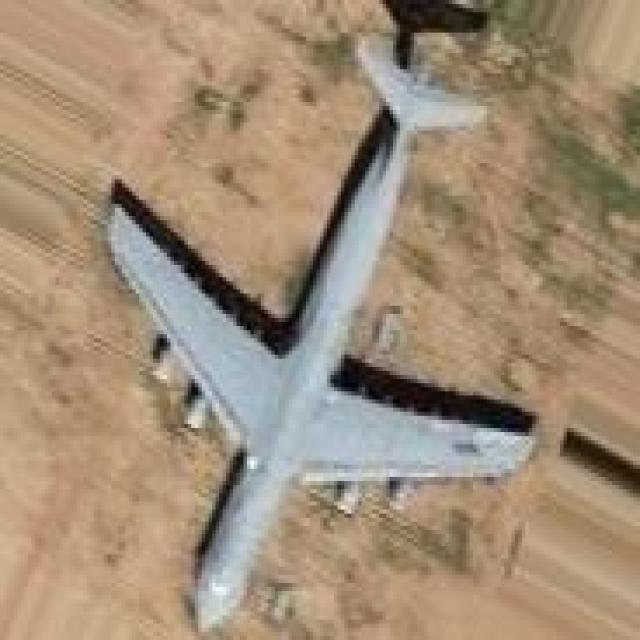C-5_TopDown: (101, 16, 539, 636)
